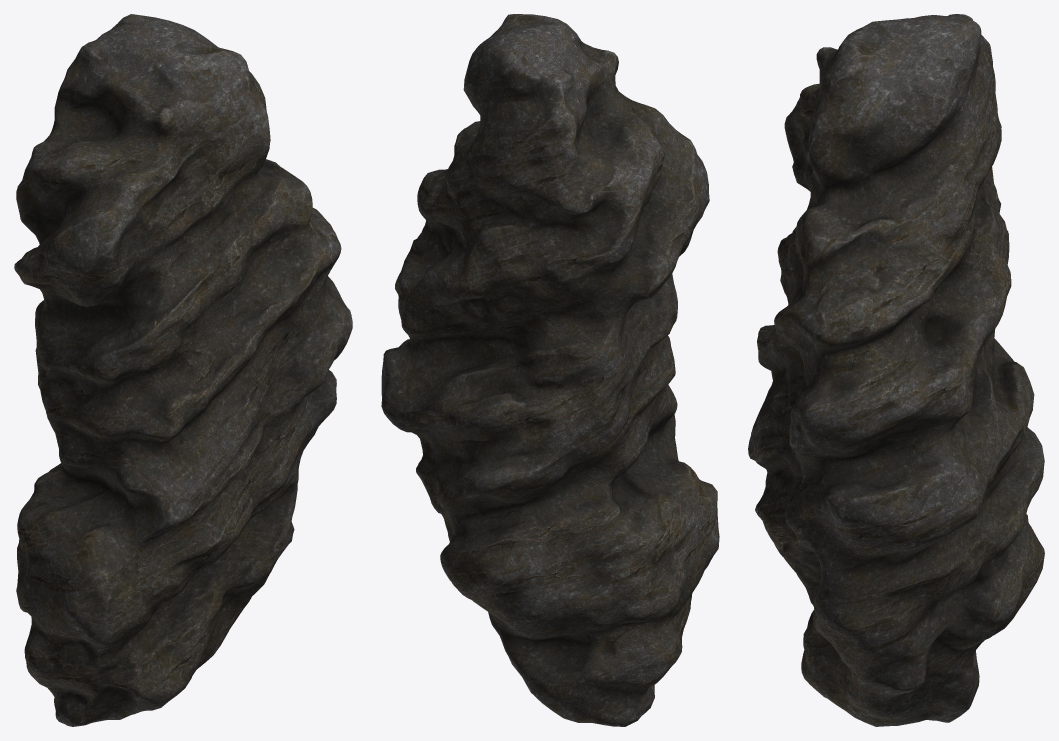
File: set2_rock_11.fbx
3 views of the same model, side by side, from view 1: azimuth 30°, elevation 25°; view 2: azimuth 150°, elevation 25°; view 3: azimuth 270°, elevation 25° (orthographic). The views are drawn at different scales.
Visible parts, largest first — view 1: set2_rock_11; view 2: set2_rock_11; view 3: set2_rock_11.
Boxes of the visible parts, bbox=[...] form: set2_rock_11: bbox=[14, 14, 352, 726]; set2_rock_11: bbox=[381, 14, 719, 726]; set2_rock_11: bbox=[748, 14, 1044, 726].
Bounding box in the file's own units: 24.58 × 53.58 × 19.62.
Materials: 1 (1 with a texture image).
